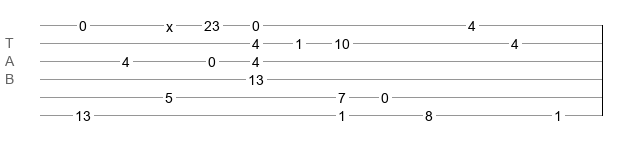0: (79, 18, 87, 28), (208, 54, 216, 64), (252, 18, 260, 28), (381, 90, 389, 100)
1: (295, 36, 303, 46), (338, 108, 346, 118), (554, 108, 562, 118)
10: (334, 36, 350, 46)
13: (75, 108, 91, 118), (248, 72, 264, 82)
23: (204, 18, 220, 28)
4: (122, 54, 130, 64), (252, 36, 260, 46), (252, 54, 260, 64), (468, 18, 476, 28), (511, 36, 519, 46)
5: (165, 90, 173, 100)
7: (338, 90, 346, 100)
8: (425, 108, 433, 118)
x: (166, 19, 173, 27)
